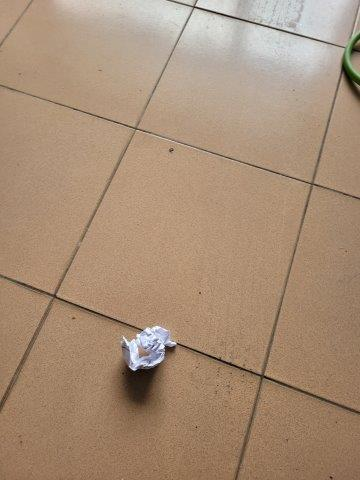kertas: (116, 326, 177, 373)
